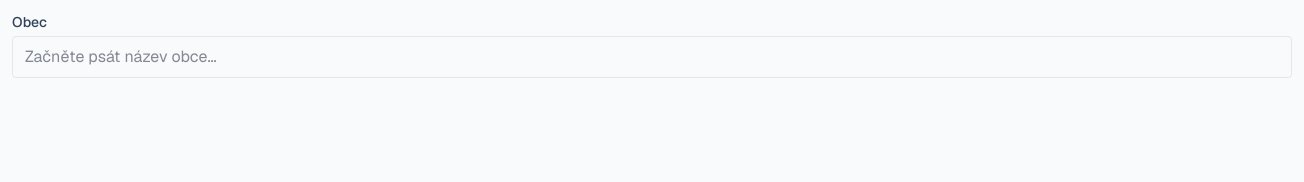
Test: MunicipalityAutocomplete › typing offers matches from the search endpoint
In the dropdown: (652, 57) x1=12 y1=36 x2=1292 y2=78, type "Plz"
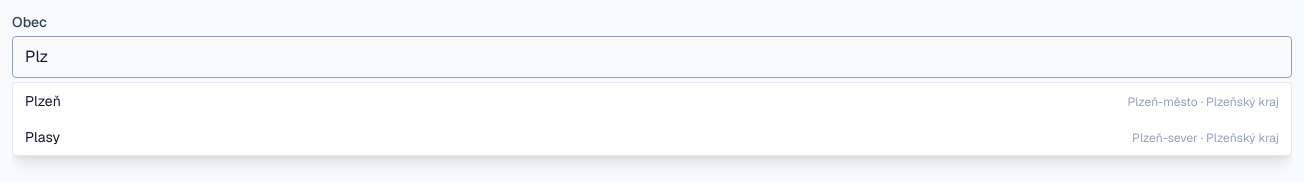
Result: the text "Plzeň" is shown at x1=25 y1=91 x2=61 y2=111
Result: the text "Plasy" is shown at x1=25 y1=127 x2=60 y2=147
Result: the number of options is 2 at x1=13 y1=83 x2=1291 y2=119; x1=13 y1=119 x2=1291 y2=155
